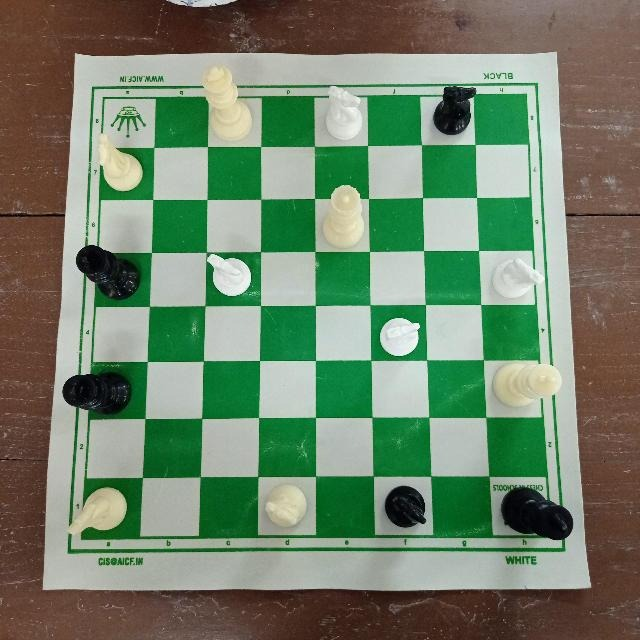black-king: (497, 486, 577, 544), (57, 364, 137, 420), (72, 244, 144, 302)
black-knight: (427, 80, 477, 140), (384, 481, 431, 533)
white-king: (197, 59, 255, 144), (490, 356, 564, 414)
white-knight: (90, 133, 147, 193), (66, 484, 132, 535), (318, 88, 367, 143), (260, 484, 314, 530), (490, 255, 541, 302), (372, 312, 424, 358), (206, 254, 250, 297)
white-queen: (319, 180, 370, 254)
